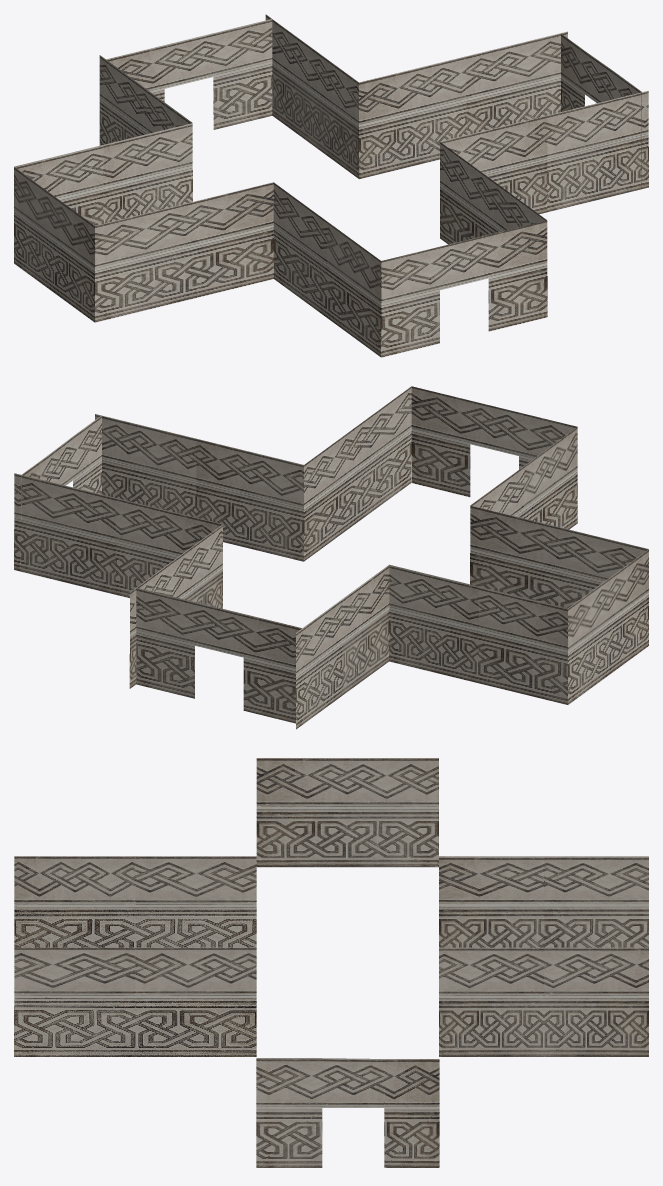
The picture shows the model from 3 angles, top to bottom: view 1: azimuth 30°, elevation 25°; view 2: azimuth 150°, elevation 25°; view 3: azimuth 270°, elevation 25°; orthographic projection. The views are drawn at different scales.
Visible parts, largest first — view 1: 복도 벽, 화장실 밖 벽, 침실 밖 벽; view 2: 복도 벽, 침실 밖 벽, 화장실 밖 벽; view 3: 복도 벽.
Boxes of the visible parts, bbox=[...] form: 복도 벽: bbox=[14, 14, 648, 356]; 화장실 밖 벽: bbox=[381, 220, 547, 357]; 침실 밖 벽: bbox=[106, 19, 272, 129]; 복도 벽: bbox=[14, 386, 648, 729]; 침실 밖 벽: bbox=[136, 587, 301, 723]; 화장실 밖 벽: bbox=[411, 386, 577, 523]; 복도 벽: bbox=[14, 758, 648, 1167].
Bounding box in the file's own units: 896 × 151 × 789.
